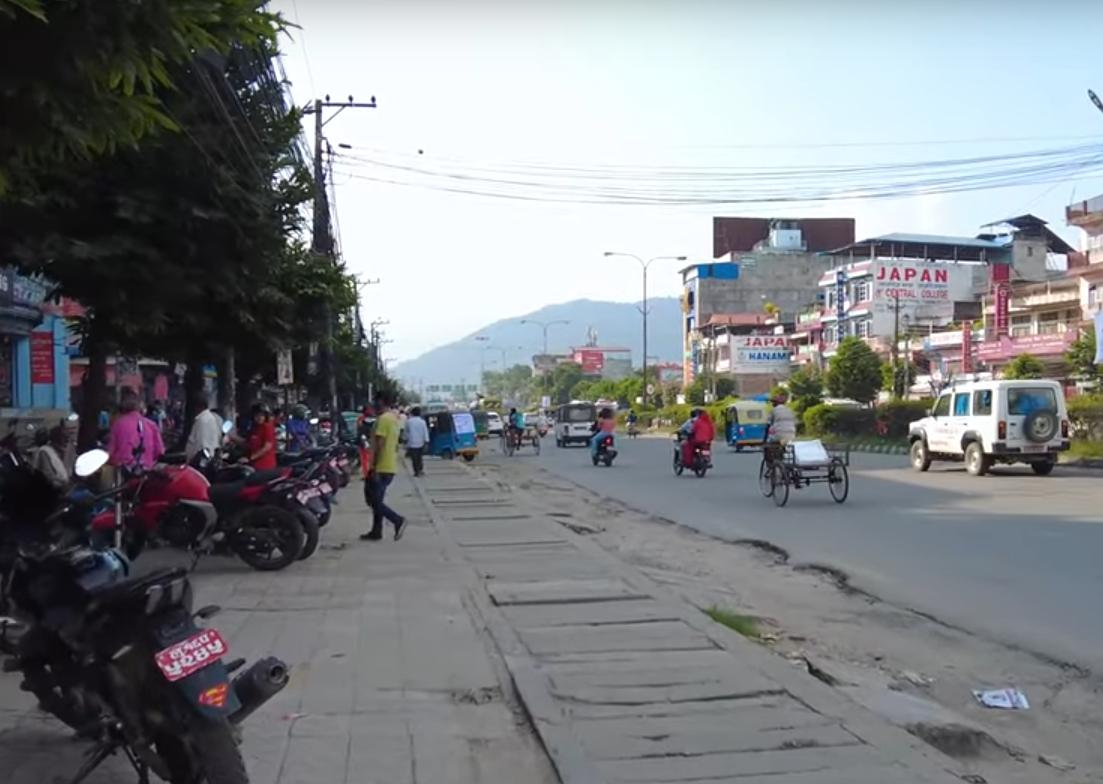ambulance: (906, 364, 1084, 492)
auto_rickshaw: (723, 399, 773, 453)
